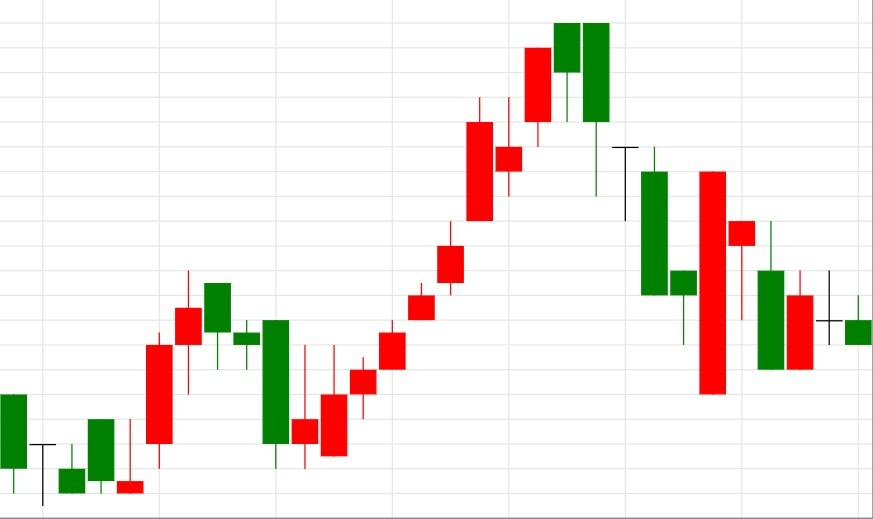three_white_soldiers_rise: (204, 283, 407, 469)
